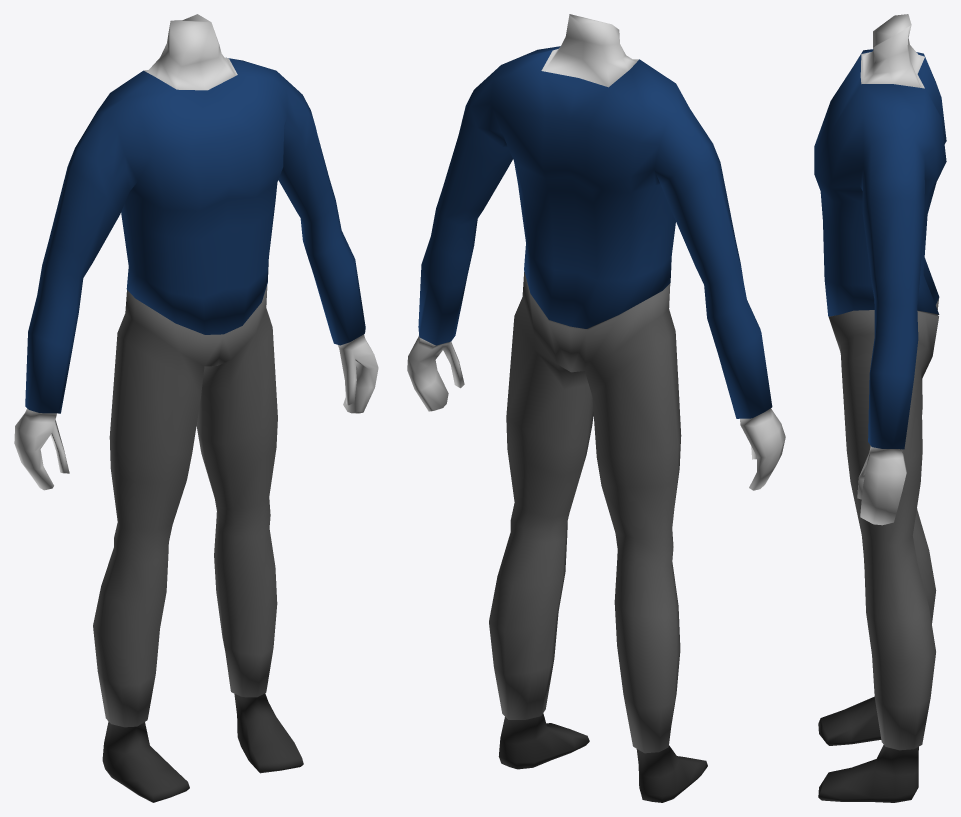
The model's file is human_headless_clothed_handsdown_uv.fbx.
The picture shows the model from 3 angles, left to right: view 1: azimuth 30°, elevation 25°; view 2: azimuth 150°, elevation 25°; view 3: azimuth 270°, elevation 25°; orthographic projection. The views are drawn at different scales.
Visible parts, largest first — view 1: Cube.001; view 2: Cube.001; view 3: Cube.001.
Boxes of the visible parts, bbox=[...] form: Cube.001: bbox=[14, 14, 378, 802]; Cube.001: bbox=[407, 14, 785, 802]; Cube.001: bbox=[814, 14, 946, 802].
Bounding box in the file's own units: 734 × 1473 × 237.
